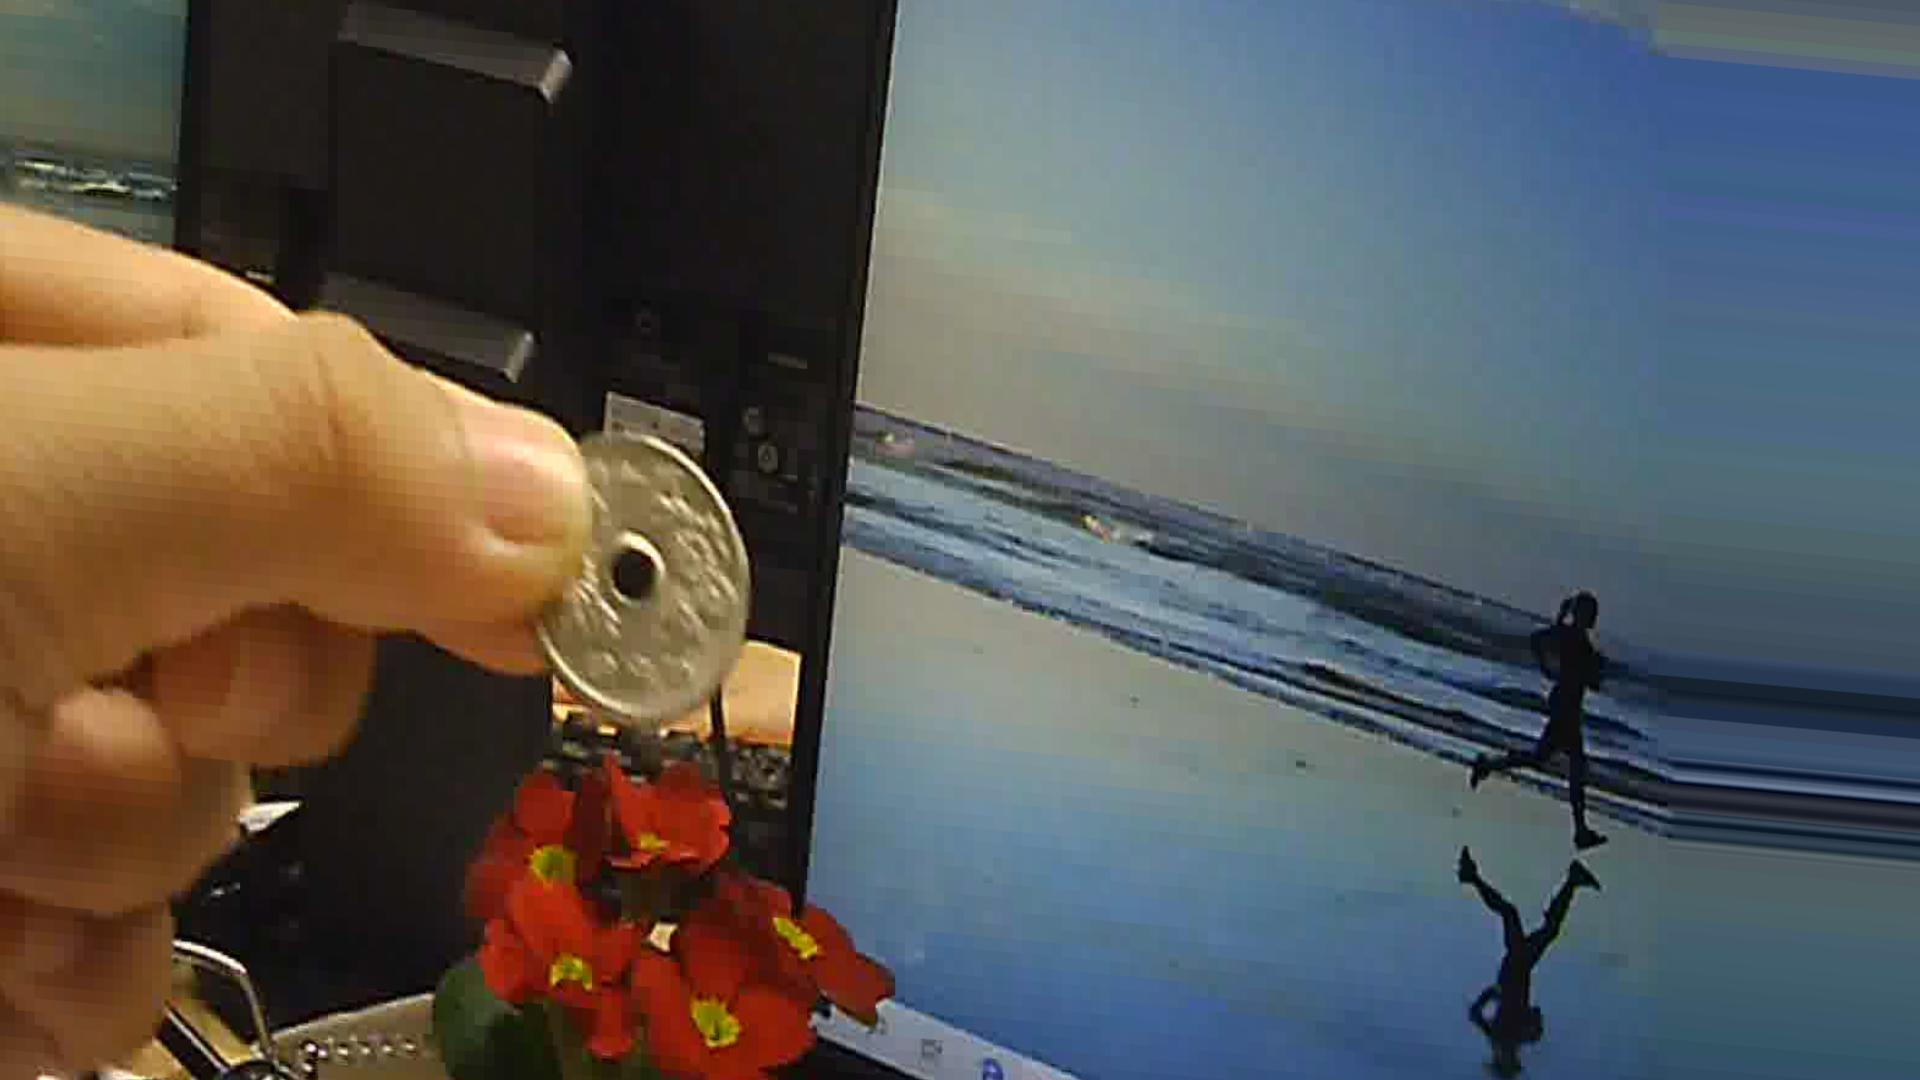50 Yen: (520, 415, 767, 732)
